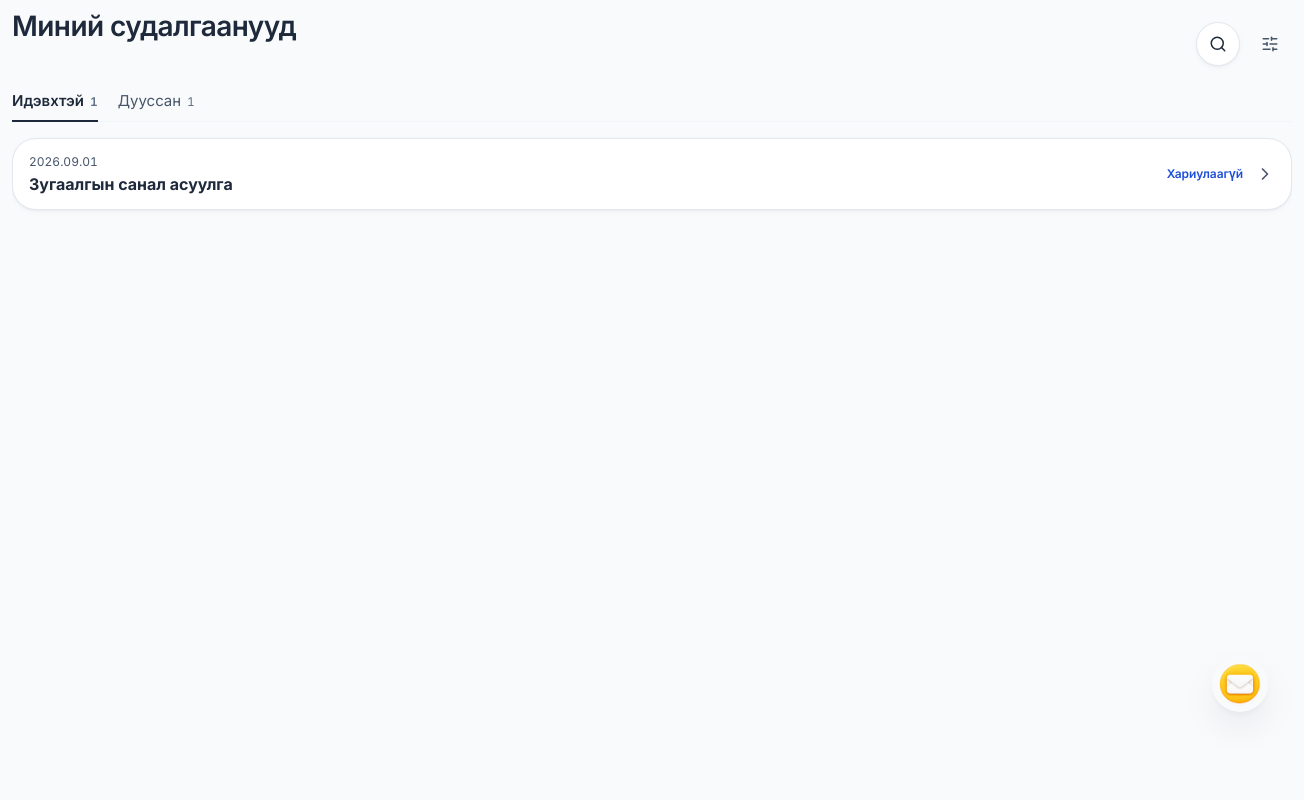
Test: хайлт ба шүүлтүүр › ★ keeps search and filter behind one button each
Check: the text "Зугаалгын санал асуулга" is shown, box [29,174,233,194]
Check: the field labelled "Судалгааны нэрээр хайх" is not shown
Click the button named "Хайх" at (1218,44), box [1196,22,1240,66]
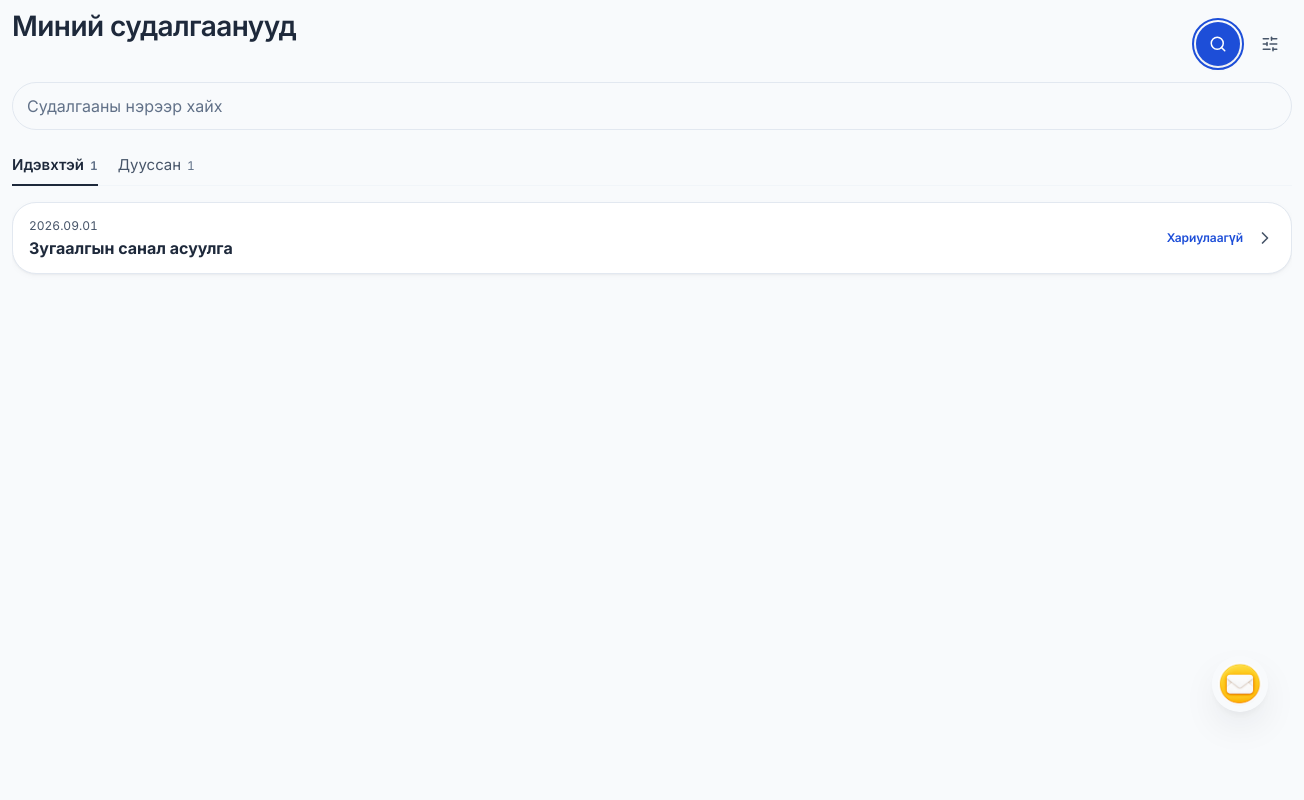
Check: the search field labelled "Судалгааны нэрээр хайх" is shown, box [12,82,1292,130]
